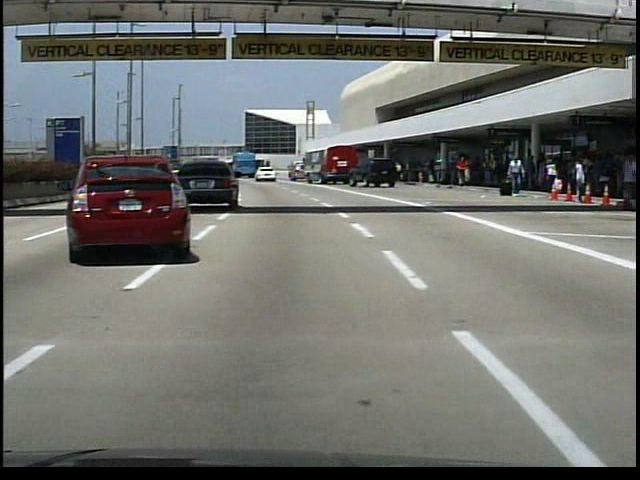person: (617, 155, 636, 206), (503, 153, 524, 197), (453, 156, 471, 186), (393, 162, 405, 185)
